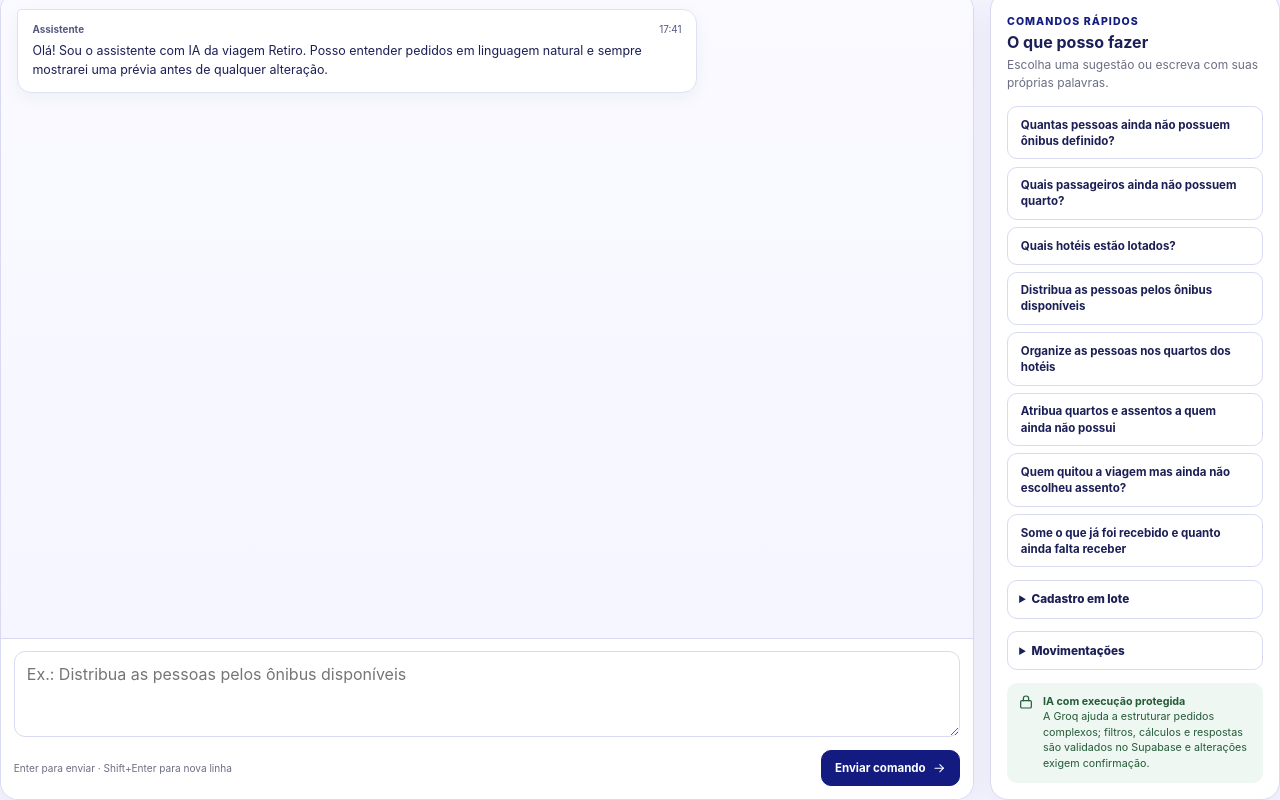
Test: AdminAssistantPage › só executa distribuição depois da confirmação
(page scrolled)
Step 1. Type "Distribua as pessoas pelos ônibus disponíveis" into the text box named "Solicitação ao assistente" → (487, 694), box [14, 652, 960, 738]
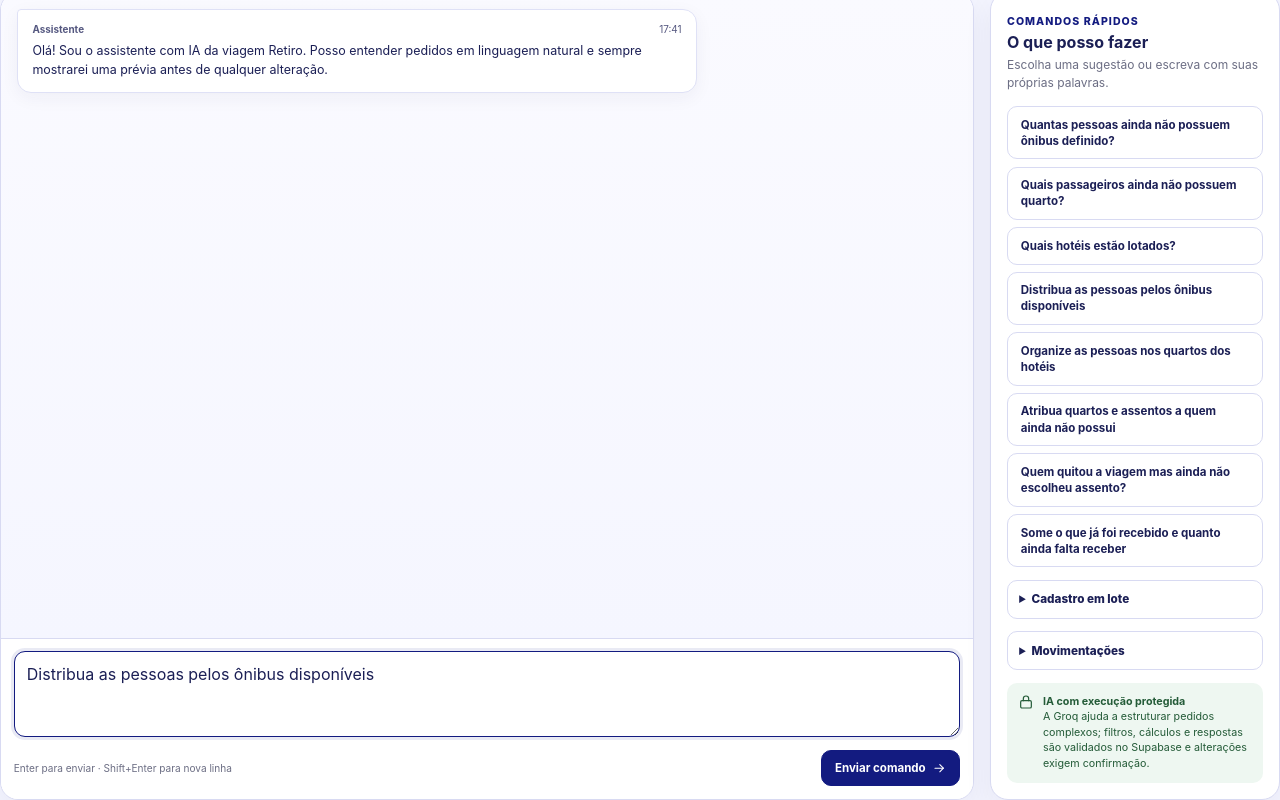
Step 2. Click the button "Enviar comando" → (891, 768), box [821, 750, 960, 786]
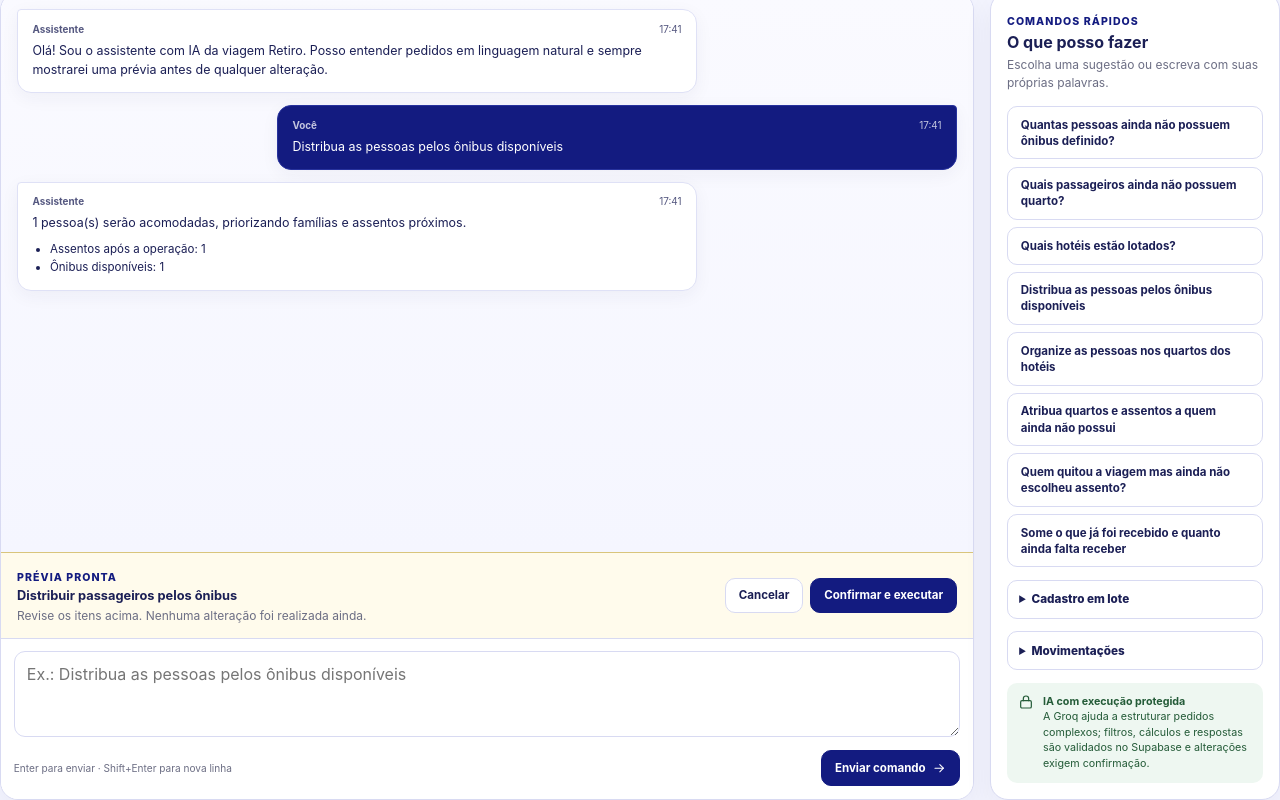
Step 3. Click the button "Confirmar e executar" → (884, 595), box [810, 578, 957, 613]
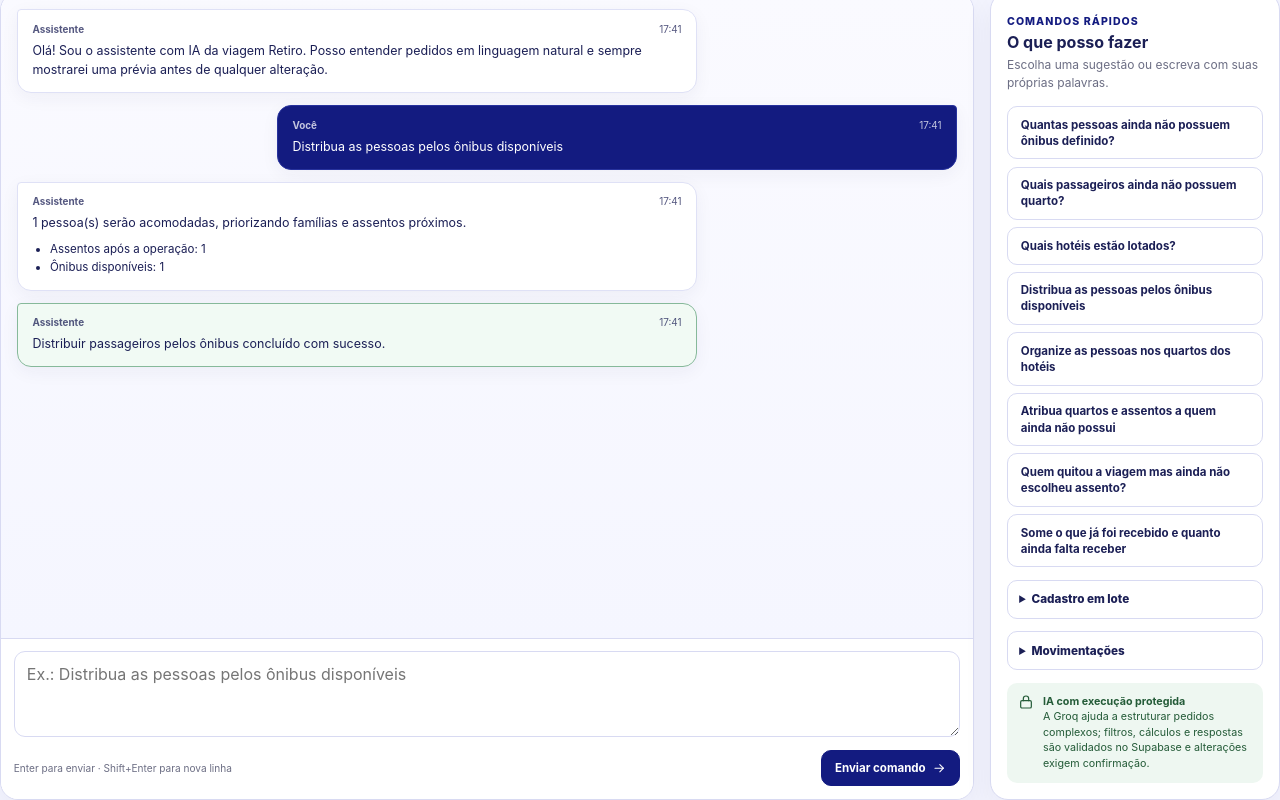
Now the text "Distribuir passageiros pelos ônibus concluído com sucesso." is shown, box [32, 336, 385, 351]
